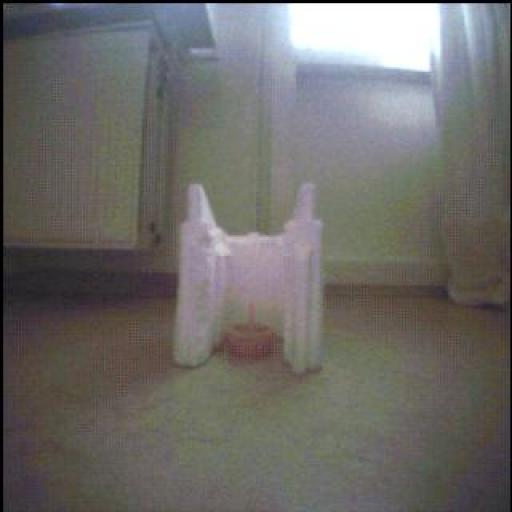Basket: (225, 325, 278, 360)
